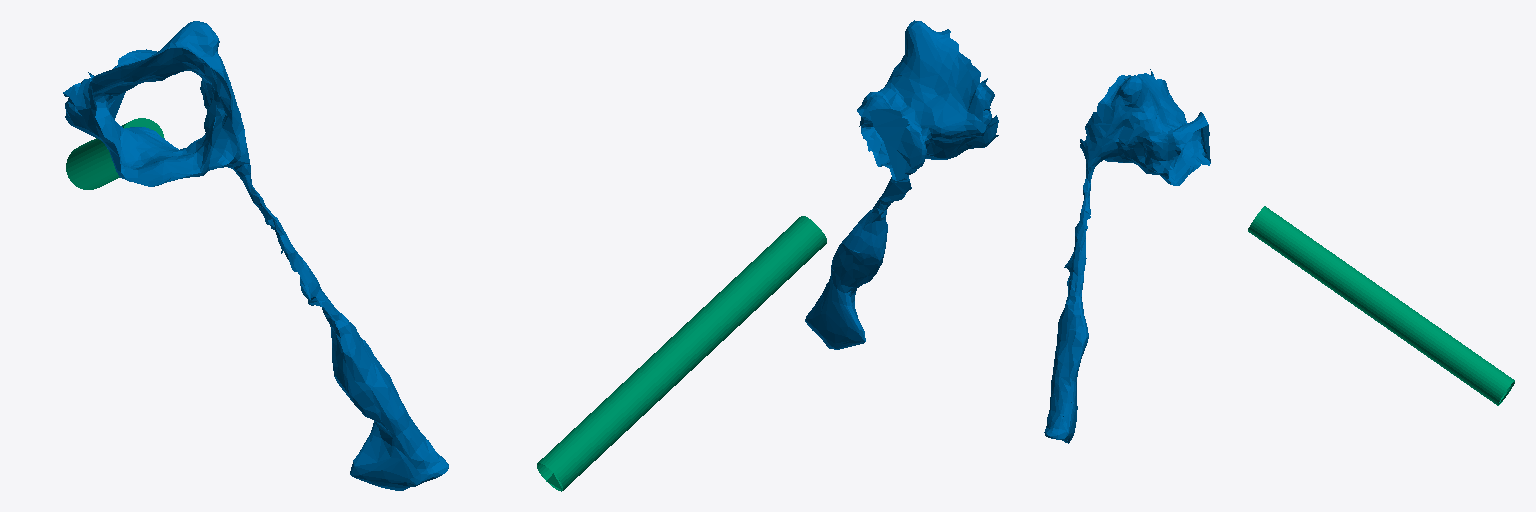
The robot description file, URDF, robot "tripod":
<?xml version="1.0"?>
<robot name="tripod">
  <link name ="rb0">
    <visual>
      <origin xyz='0.092833 0.064784 -0.146054' rpy='1.005964 0.181086 -0.489690'/>
      <geometry>
        <mesh filename="package://articulated_objects_db/data/objects/tripod/meshes/tripod_base_ft.obj"  scale="1 1 1" />
      </geometry>
    </visual>
  </link>
  <joint name="j_0_1" type="prismatic">
    <parent link="rb0"/>
    <child link="rb1"/>
    <origin xyz="-0.0620096299176 -0.156251175143 0.0224606749753" rpy="0 0 0 "/>
    <axis xyz="0.306538170063 0.791562534073 -0.528642700646"/>
    <limit effort="30" velocity="1.0" lower="-3.1416" upper="3.1416"/>
  </joint>
  <joint name="j_0_fixed" type="fixed">
    <parent link="rb1"/>
    <child link="rb1_marker"/>
      <origin xyz="0.0 0.0 0.0" rpy="-0.747347841299 0.704064970756 -0.917414738288"/>
    <limit effort="30" velocity="1.0" lower="-3.1416" upper="3.1416"/>
  </joint>
  <joint name="j_1_2" type="revolute">
    <parent link="rb1_marker"/>
    <child link="rb2"/>
    <origin xyz="0.0239050579069 -0.0977079541875 0.0289024448218" rpy="0 0 0 "/>
    <axis xyz="-0.046625646216 -0.998489634753 0.0290602547542"/>
    <limit effort="30" velocity="1.0" lower="-3.1416" upper="3.1416"/>
  </joint>
  <joint name="j_1_fixed" type="fixed">
    <parent link="rb2"/>
    <child link="rb2_marker"/>
      <origin xyz="-0.0249630183523 0.00358107476691 0.0429703974007" rpy="-1.10798198268 0.223054681815 1.69904298333"/>
    <limit effort="30" velocity="1.0" lower="-3.1416" upper="3.1416"/>
  </joint>
  <link name ="rb1">
  </link>
  <link name ="rb1_marker">
    <visual>
      <origin xyz='0.032863 0.324750 0.039053' rpy='0.403002 -1.458750 -0.368001'/>
      <geometry>
        <mesh filename="package://articulated_objects_db/data/objects/tripod/meshes/tripod_rod.obj"  scale="1 1 1" />
      </geometry>
    </visual>
  </link>
  <link name ="rb2">
  </link>
  <link name ="rb2_marker">
    <visual>
      <origin xyz='0.046393 0.001543 -0.041883' rpy='1.673629 0.337335 -2.081458'/>
      <geometry>
        <mesh filename="package://articulated_objects_db/data/objects/tripod/meshes/tripod_top_no_camera.obj"  scale="1 1 1" />
      </geometry>
    </visual>
  </link>
</robot>

--- Facts derived from the render (not from the file) ---
Views: 3 orthographic renders of the robot side by side, from view 1: azimuth 30°, elevation 25°; view 2: azimuth 150°, elevation 25°; view 3: azimuth 270°, elevation 25°.
Robot: tripod — 5 links, 4 joints (1 revolute, 1 prismatic, 2 fixed); root link rb0; default pose: all joints at 0.
Visible links, largest first — view 1: rb2_marker, rb1_marker; view 2: rb2_marker, rb1_marker; view 3: rb2_marker, rb1_marker.
Link boxes in pixels (<box>): rb2_marker: <box>63,21,448,490</box>; rb1_marker: <box>66,118,164,189</box>; rb2_marker: <box>805,20,998,349</box>; rb1_marker: <box>537,216,826,491</box>; rb2_marker: <box>1044,69,1210,443</box>; rb1_marker: <box>1248,206,1514,405</box>.
Size in the robot's own frame: 0.229 by 0.4605 by 0.341 metres.
Meshes: 3 distinct files referenced, 2 mesh visuals loaded (2 OBJ); not drawn: 1 (file found but could not be loaded).